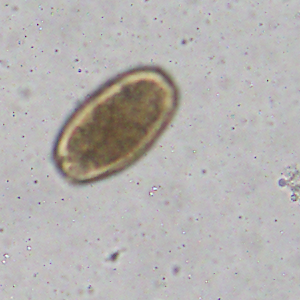Fasciola_hepatica_egg: (52, 64, 180, 186)
